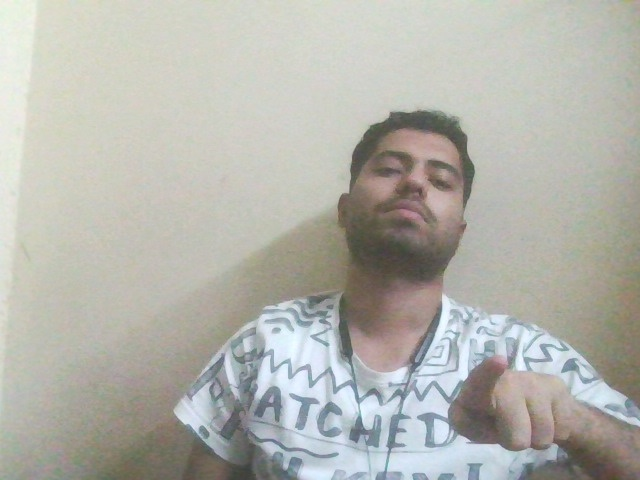Yes: (443, 317, 596, 464)
